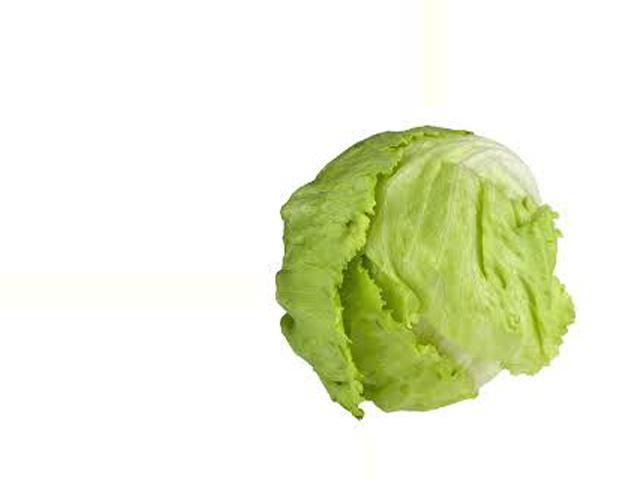lettuce: (276, 116, 562, 413)
